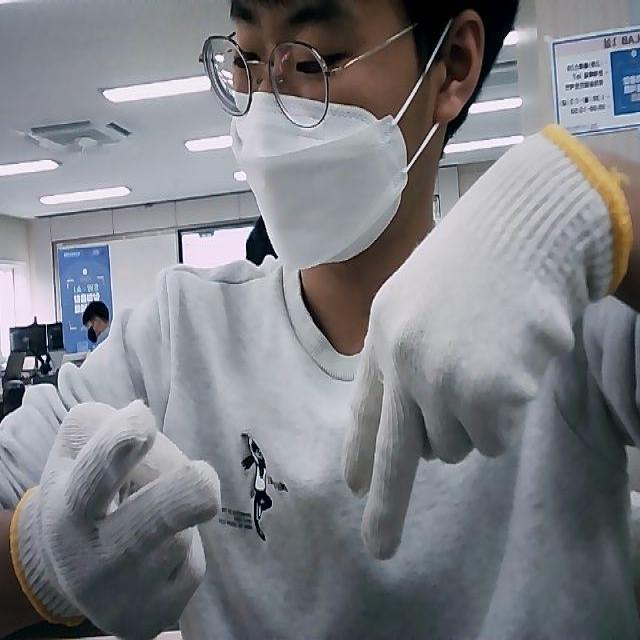gloves: (342, 129, 632, 560), (8, 399, 222, 639)
